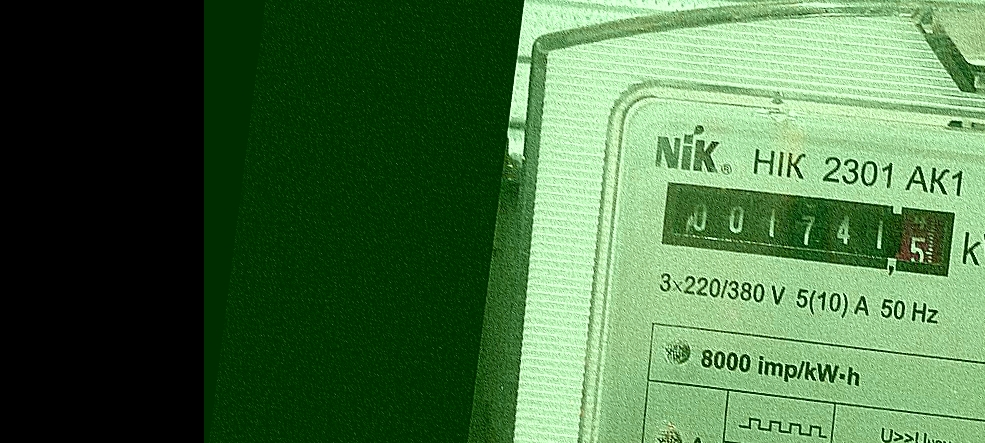0: (724, 201, 747, 237), (688, 199, 711, 234)
1: (760, 203, 781, 241), (869, 216, 888, 253)
4: (832, 210, 856, 248), (910, 212, 928, 232)
5: (905, 232, 928, 265)
7: (795, 211, 816, 248)
screen: (653, 169, 963, 288)
